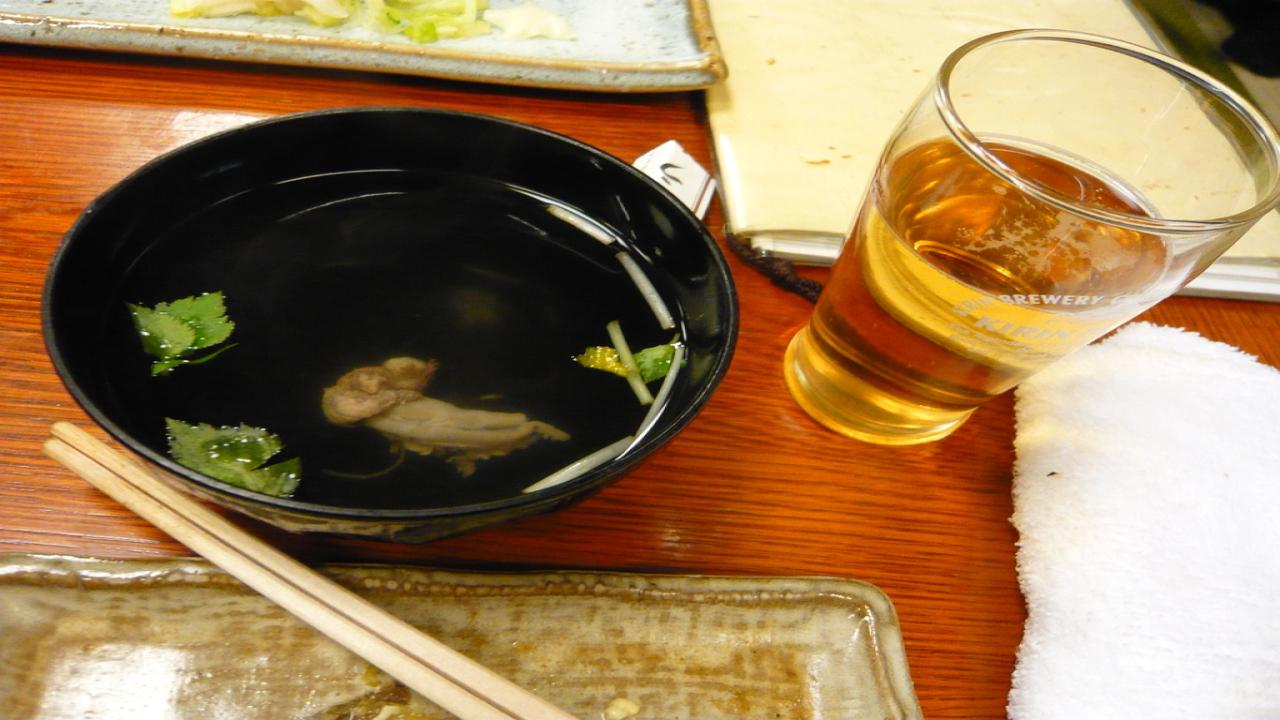chopstick: (46, 424, 565, 720)
